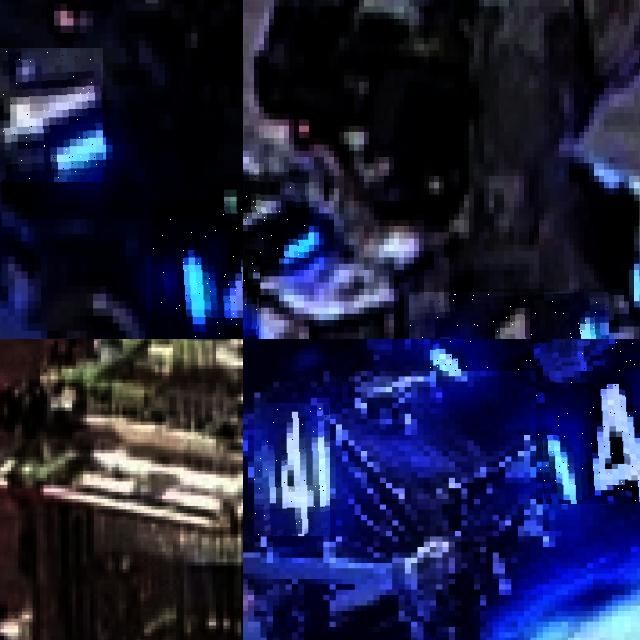B1: (409, 291, 609, 339), (243, 172, 309, 260)
B4: (536, 370, 640, 504), (0, 48, 102, 182), (152, 200, 243, 339), (254, 403, 330, 536), (429, 339, 640, 371)
